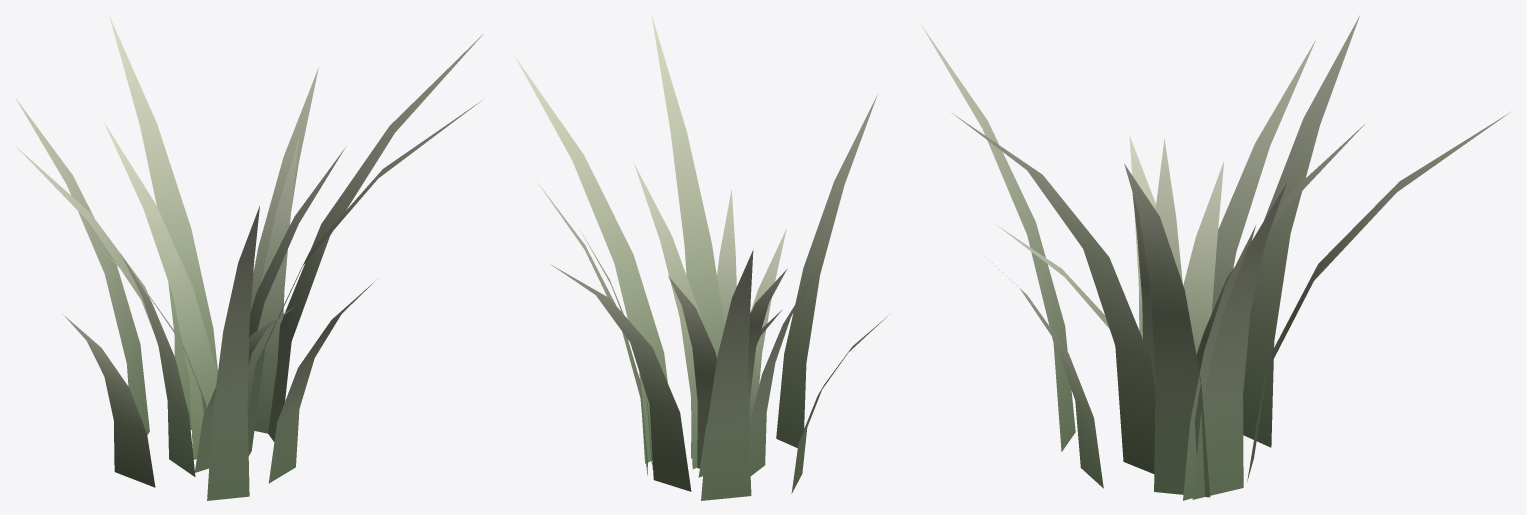
File: f_grass1.glb
3 renders of one model, left to right at view 1: azimuth 30°, elevation 25°; view 2: azimuth 150°, elevation 25°; view 3: azimuth 270°, elevation 25°, orthographic. The views are drawn at different scales.
Visible parts, largest first — view 1: grass1; view 2: grass1; view 3: grass1.
Boxes of the visible parts, bbox=[...] form: grass1: bbox=[15, 15, 483, 500]; grass1: bbox=[515, 15, 887, 500]; grass1: bbox=[921, 15, 1511, 500].
Bounding box in the file's own units: 0.8852 × 0.7814 × 0.9408.
